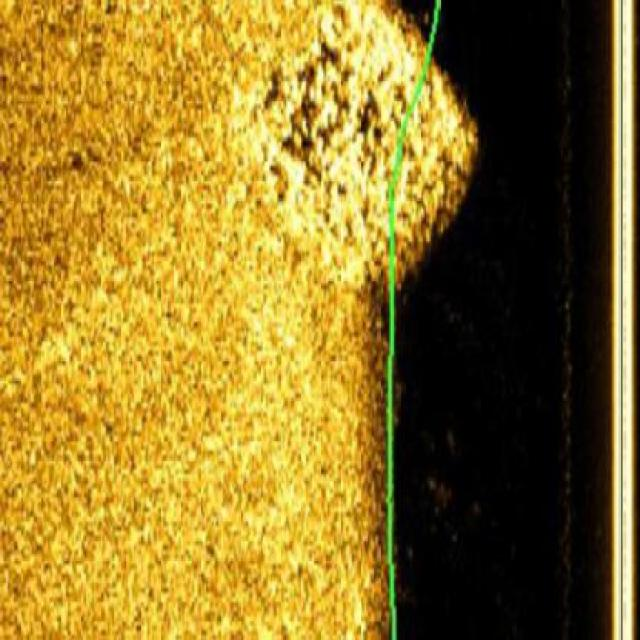bedrock group: (244, 0, 476, 289)
